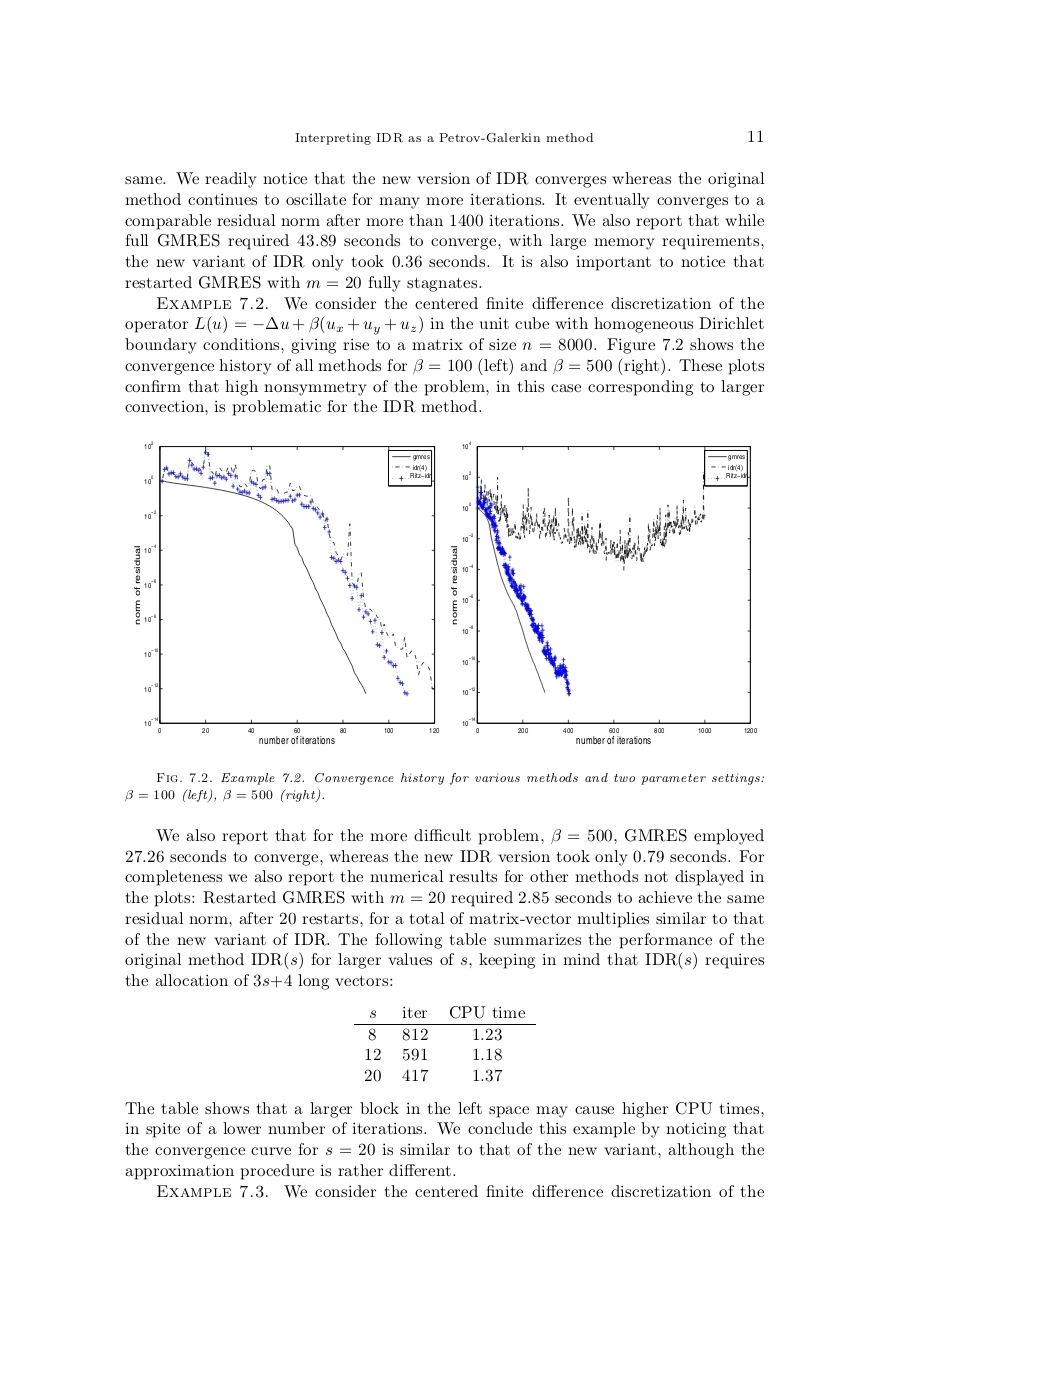Table: (354, 1006, 535, 1081)
figure: (134, 441, 438, 744), (451, 441, 756, 744)
